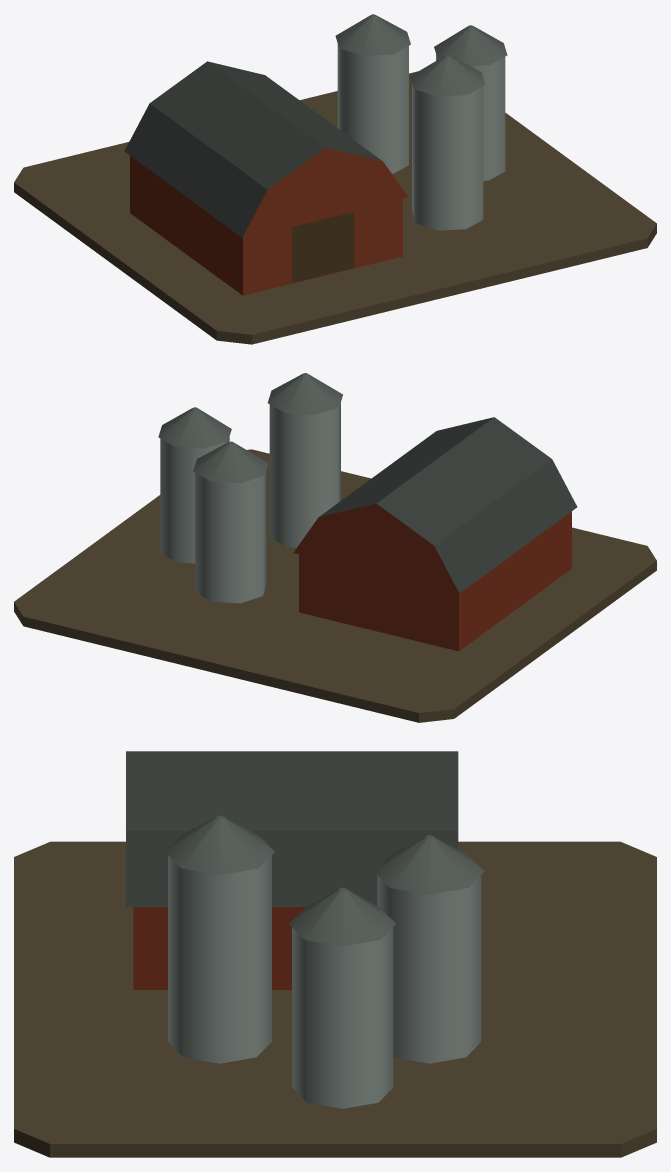
The model's file is farm.glb.
3 views of the same model, one above another, from view 1: azimuth 30°, elevation 25°; view 2: azimuth 150°, elevation 25°; view 3: azimuth 270°, elevation 25° (orthographic). The views are drawn at different scales.
Parts seen in each view (by area): view 1: farm; view 2: farm; view 3: farm.
Part boxes in pixels (<box>): farm: <box>14,14,656,344</box>; farm: <box>14,373,656,722</box>; farm: <box>14,751,656,1157</box>.
Size of the model in its own units: 99 by 36.4 by 89.
